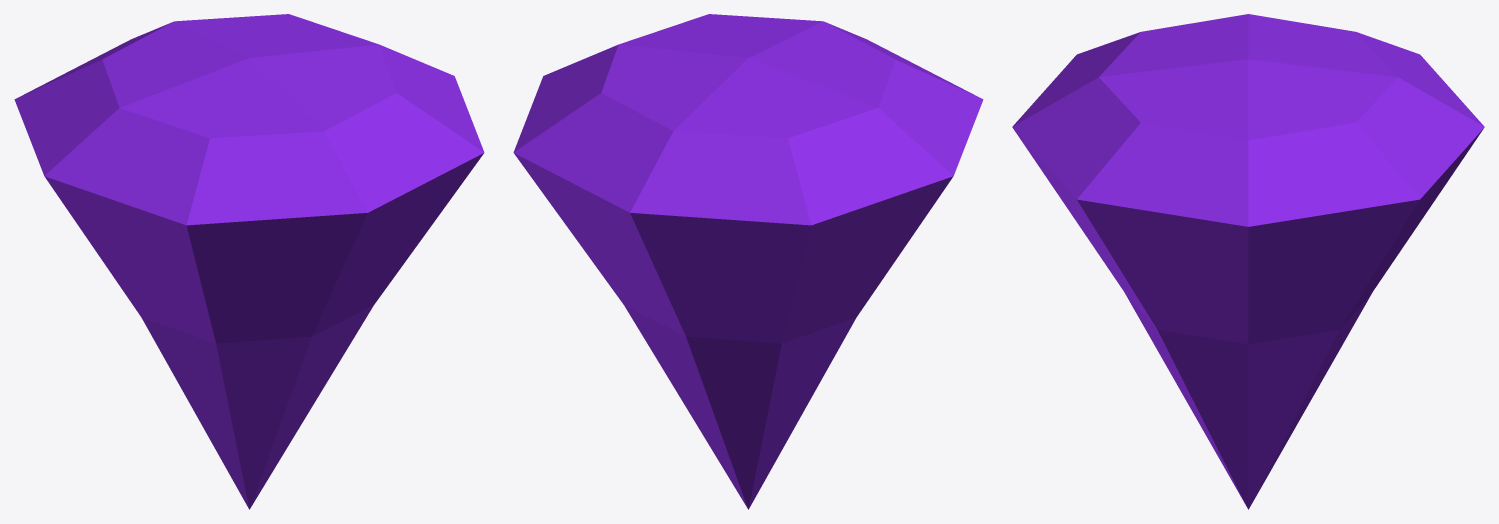
The model's file is Diamante.fbx.
3 views of the same model, side by side, from view 1: azimuth 30°, elevation 25°; view 2: azimuth 150°, elevation 25°; view 3: azimuth 270°, elevation 25° (orthographic).
Parts seen in each view (by area): view 1: Cube; view 2: Cube; view 3: Cube.
Part boxes in pixels (left/top/right/bottom): Cube: left=14, top=14, right=484, bottom=509; Cube: left=513, top=14, right=983, bottom=509; Cube: left=1012, top=14, right=1484, bottom=509.
Bounding box in the file's own units: 168 × 177 × 168.
